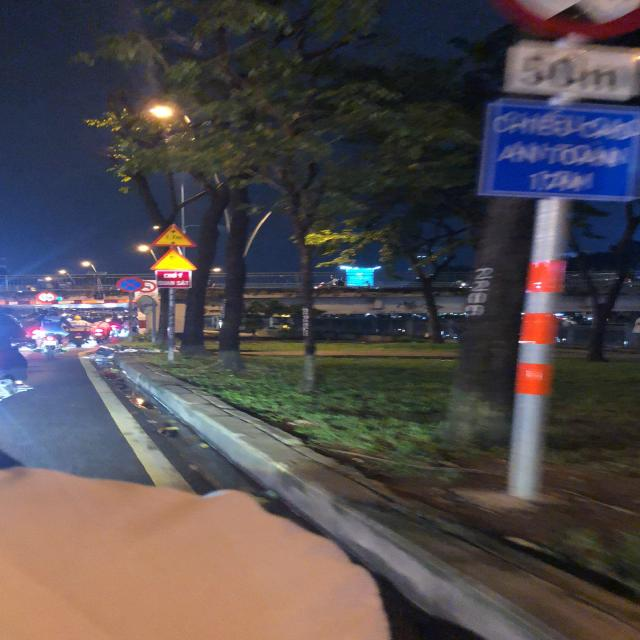Bien bao cam dung xe va do xe: (114, 275, 150, 295)
Bien bao chieu cao tinh khong thuc te: (146, 222, 202, 250)
